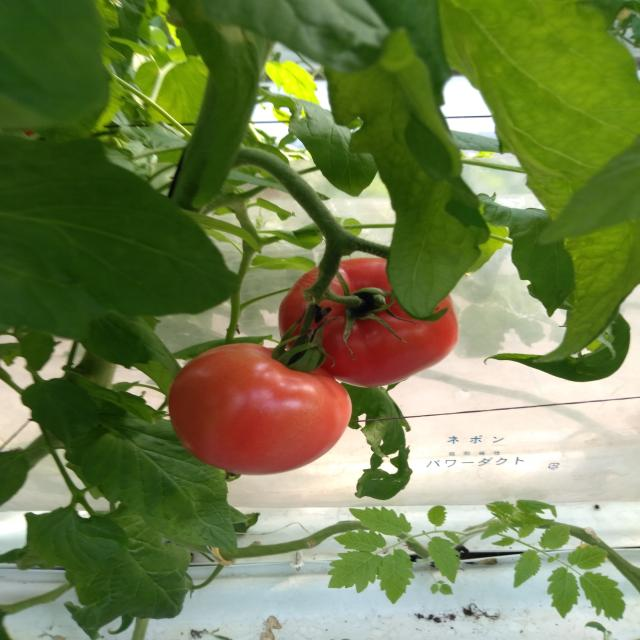n-riped: (168, 344, 352, 476), (277, 257, 458, 388)
